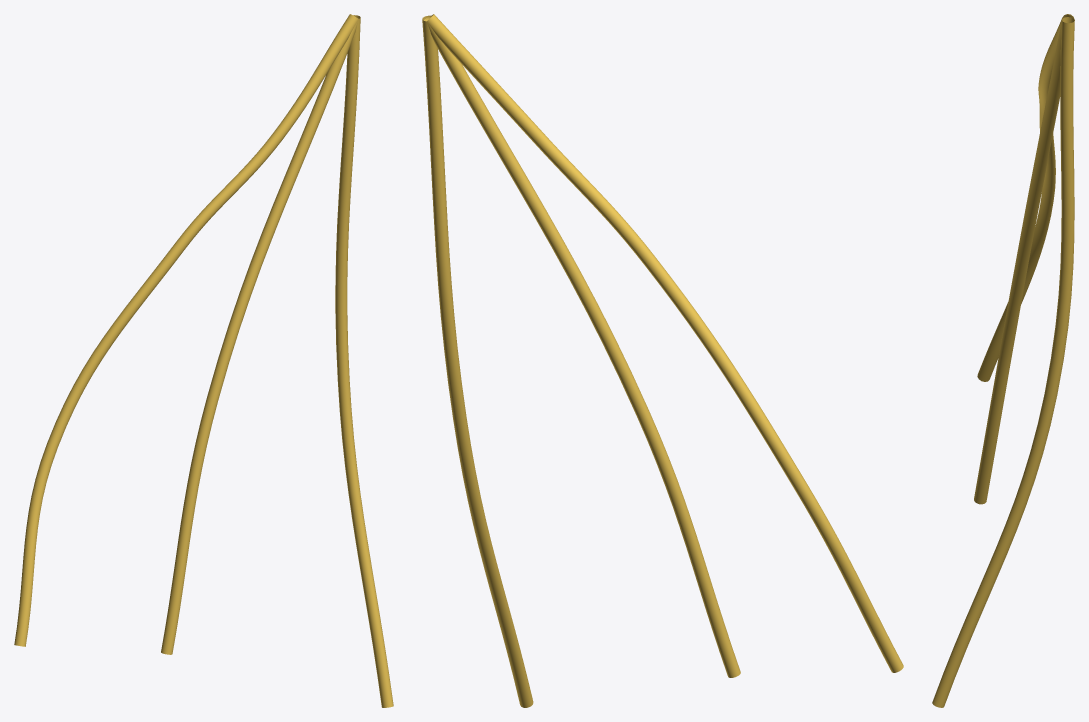
The model's file is Common_palmar_digital_branches_median_nerve_right.glb.
3 views of the same model, side by side, from view 1: azimuth 30°, elevation 25°; view 2: azimuth 150°, elevation 25°; view 3: azimuth 270°, elevation 25° (orthographic). The views are drawn at different scales.
Visible parts, largest first — view 1: Common_palmar_digital_branches_of_median_nerve.r_BezierCurve; view 2: Common_palmar_digital_branches_of_median_nerve.r_BezierCurve; view 3: Common_palmar_digital_branches_of_median_nerve.r_BezierCurve.
Boxes of the visible parts, <box> form: Common_palmar_digital_branches_of_median_nerve.r_BezierCurve: <box>14,14,393,707</box>; Common_palmar_digital_branches_of_median_nerve.r_BezierCurve: <box>422,14,903,707</box>; Common_palmar_digital_branches_of_median_nerve.r_BezierCurve: <box>932,14,1074,707</box>.
Size of the model in its own units: 0.0369 by 0.0593 by 0.0109.
